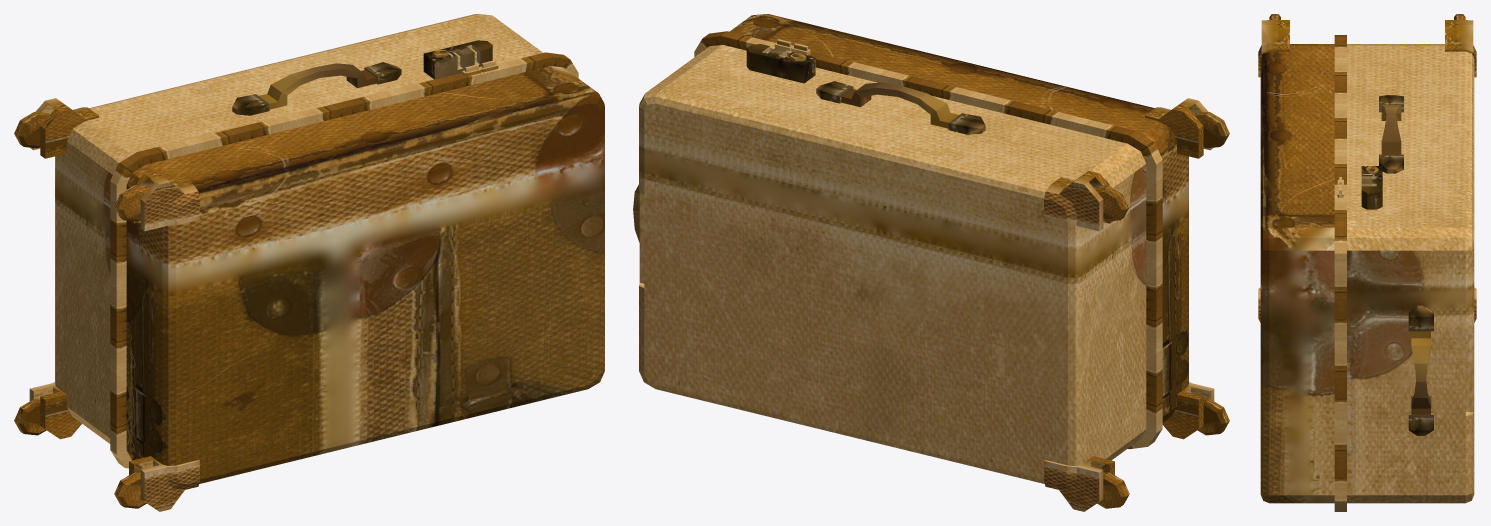
The model's file is suitcase.obj.
The picture shows the model from 3 angles, left to right: view 1: azimuth 30°, elevation 25°; view 2: azimuth 150°, elevation 25°; view 3: azimuth 270°, elevation 25°; orthographic projection. The views are drawn at different scales.
Size of the model in its own units: 0.8 by 0.5 by 0.32.
